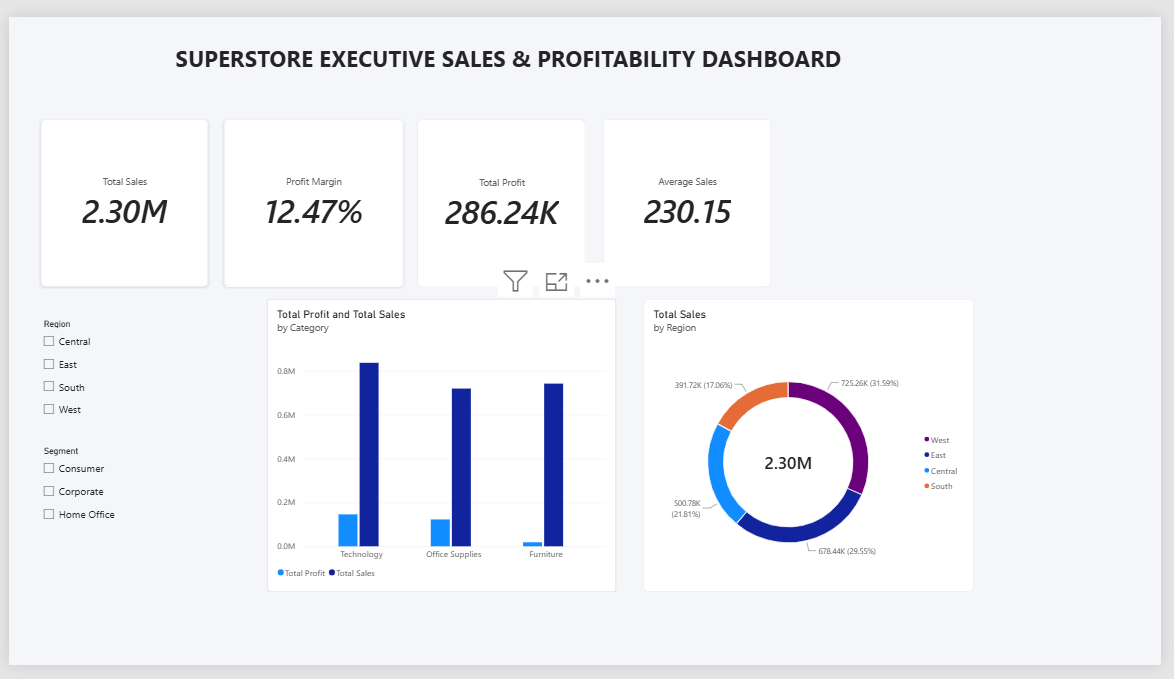

What the dashboard file says about the page in this screenshot:
{"tool":"powerbi","page":{"name":"Page 1","canvas":[1920,1080],"ordinal":0},"visuals":[{"type":"cardVisual","fields":{"Data":["Cleaned_Superstore.Total Sales"]},"box":[52.5,170,280,280],"z":0},{"type":"cardVisual","fields":{"Data":["Cleaned_Superstore.Total Profit"]},"box":[680,170,280,280],"z":1000},{"type":"cardVisual","fields":{"Data":["Cleaned_Superstore.Average Sales"]},"box":[990,170,280,280],"z":2000},{"type":"cardVisual","fields":{"Data":["Cleaned_Superstore.Profit Margin"]},"box":[357.5,170,300.5,280.6],"z":3000},{"type":"slicer","fields":{"Values":["RegionTable.Region"]},"box":[50,502.5,282.5,212.5],"z":4000},{"type":"slicer","fields":{"Values":["Cleaned_Superstore.Segment"]},"box":[50,715,280,175],"z":5000},{"type":"clusteredColumnChart","fields":{"Category":["Cleaned_Superstore.Category"],"Y":["Cleaned_Superstore.Total Profit","Cleaned_Superstore.Total Sales"]},"box":[430,470,582.5,487.5],"z":6000},{"type":"donutChart","fields":{"Category":["RegionTable.Region"],"Y":["Cleaned_Superstore.Total Sales"]},"box":[1057.5,470,550,487.5],"z":7000},{"type":"textbox","box":[115,43.3,1435,75],"z":8000}]}

Visuals, with their boxes in screenshot pixels (x1, y1, x2, y2), scaled from the page's 1920x1080 canvas onto the 1174x679 screenshot:
cardVisual - Cleaned_Superstore.Total Sales: (left=32, top=107, right=203, bottom=283)
cardVisual - Cleaned_Superstore.Total Profit: (left=416, top=107, right=587, bottom=283)
cardVisual - Cleaned_Superstore.Average Sales: (left=605, top=107, right=777, bottom=283)
cardVisual - Cleaned_Superstore.Profit Margin: (left=219, top=107, right=402, bottom=283)
slicer - RegionTable.Region: (left=31, top=316, right=203, bottom=450)
slicer - Cleaned_Superstore.Segment: (left=31, top=450, right=202, bottom=560)
clusteredColumnChart - Cleaned_Superstore.Category x Cleaned_Superstore.Total Profit: (left=263, top=295, right=619, bottom=602)
donutChart - RegionTable.Region x Cleaned_Superstore.Total Sales: (left=647, top=295, right=983, bottom=602)
textbox: (left=70, top=27, right=948, bottom=74)
